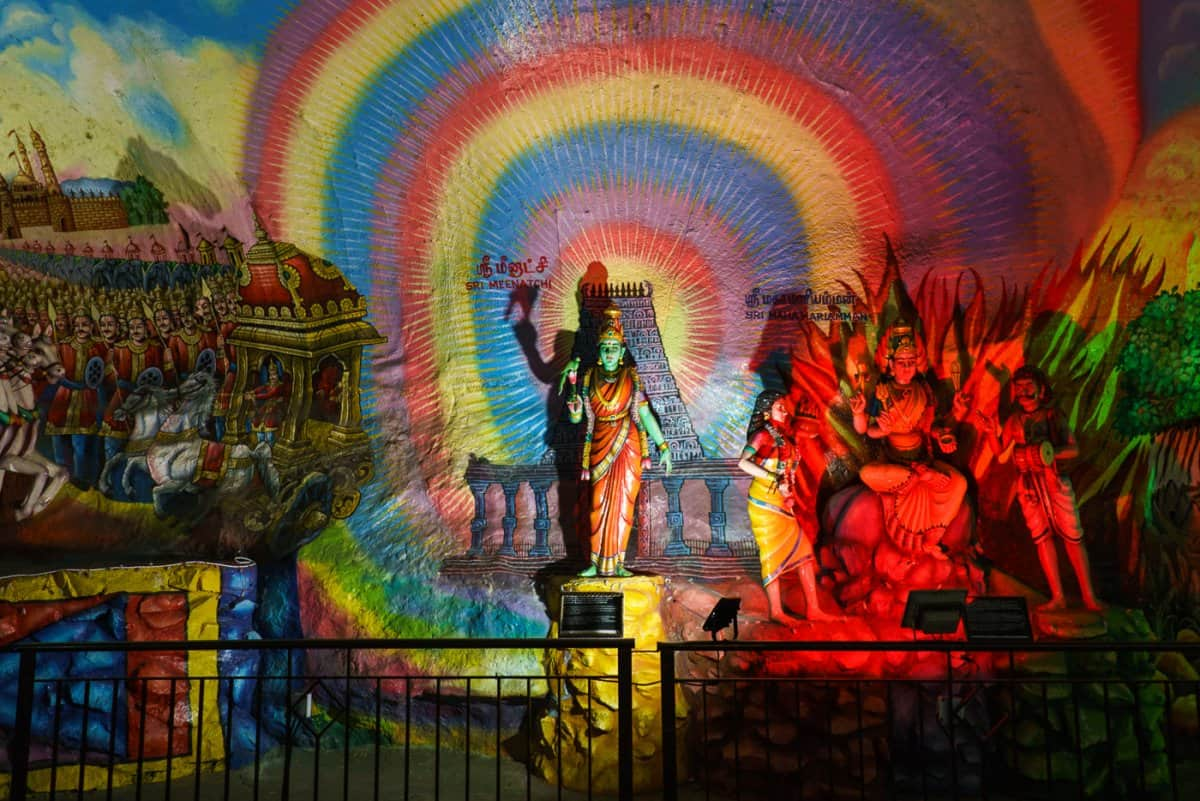Hindu Temple: (504, 249, 699, 573)
